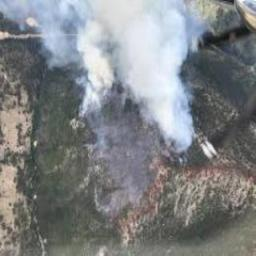Heavy smoke: (0, 0, 221, 170)
